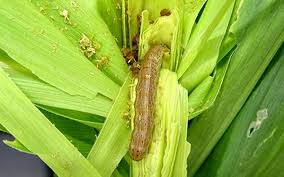Armyworm: (127, 40, 173, 159)
